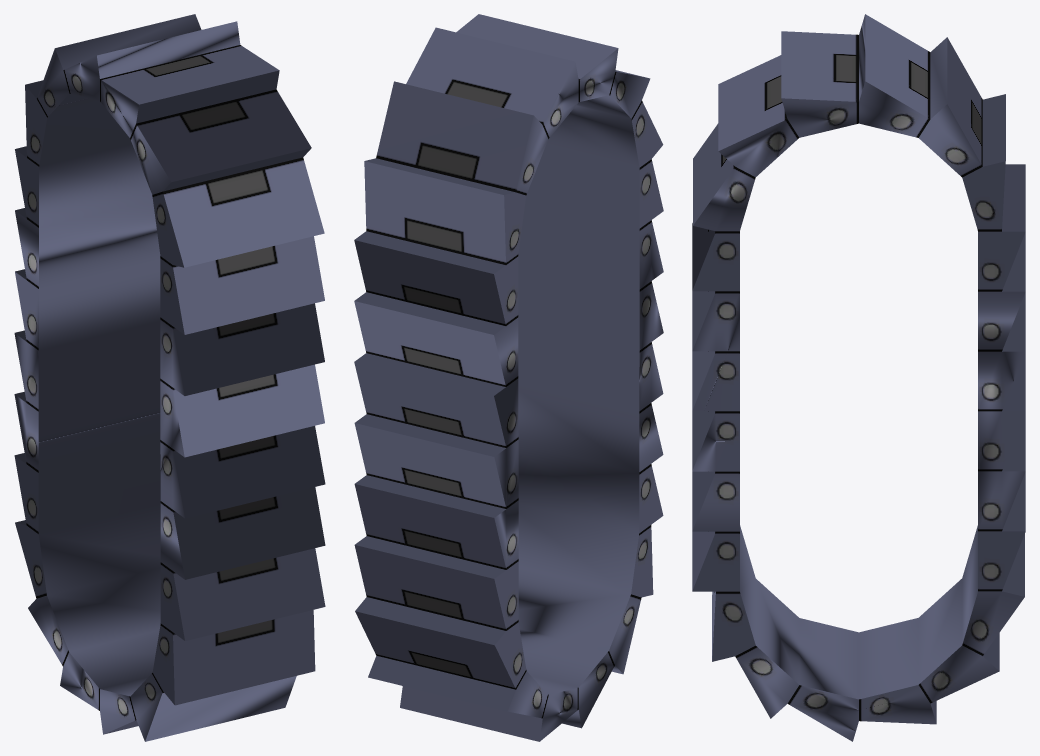
3 views of the same model, side by side, from view 1: azimuth 30°, elevation 25°; view 2: azimuth 150°, elevation 25°; view 3: azimuth 270°, elevation 25° (orthographic). The views are drawn at different scales.
Visible parts, largest first — view 1: Joint_0_Object_0; view 2: Joint_0_Object_0; view 3: Joint_0_Object_0.
Part boxes in pixels (x1,y1,x2,y2): Joint_0_Object_0: (14,14,325,741); Joint_0_Object_0: (354,14,663,741); Joint_0_Object_0: (692,14,1025,741).
Bounding box in the file's own units: 40.42 × 185 × 84.67.
1 material, 1 textured.
